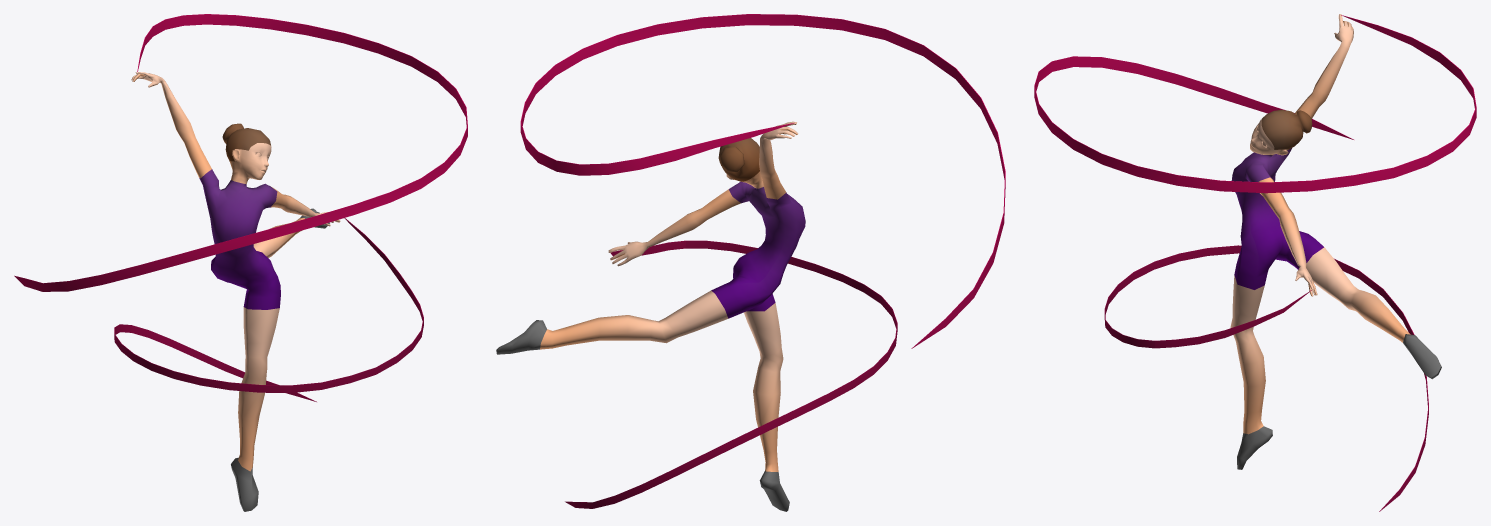
The picture shows the model from 3 angles, left to right: view 1: azimuth 30°, elevation 25°; view 2: azimuth 150°, elevation 25°; view 3: azimuth 270°, elevation 25°; orthographic projection. The views are drawn at different scales.
Visible parts, largest first — view 1: BallerinaWoman.001, BallerinaRibbon; view 2: BallerinaWoman.001, BallerinaRibbon; view 3: BallerinaWoman.001, BallerinaRibbon.
Part boxes in pixels (x1,y1,x2,y2): BallerinaWoman.001: [131, 72, 340, 511]; BallerinaRibbon: [14, 14, 467, 401]; BallerinaWoman.001: [496, 121, 805, 511]; BallerinaRibbon: [520, 14, 1005, 508]; BallerinaWoman.001: [1230, 14, 1441, 469]; BallerinaRibbon: [1034, 15, 1476, 511].
Size of the model in its own units: 2 by 2.02 by 1.91.
Materials: 1 (1 with a texture image).
